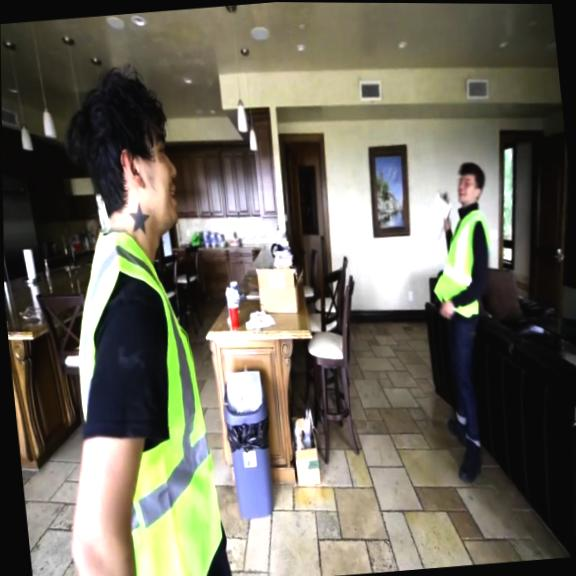safety_vest: (59, 218, 230, 576), (426, 202, 496, 321)
